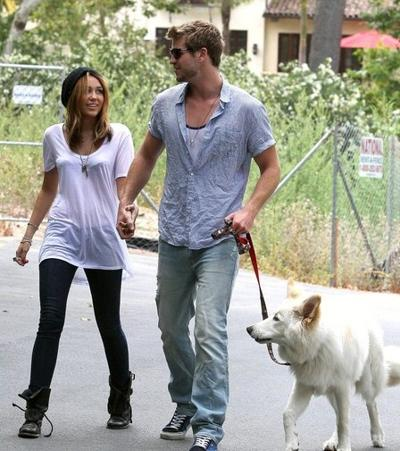person: (117, 23, 281, 451)
